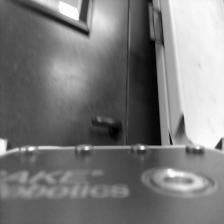Lock: (91, 115, 124, 141)
